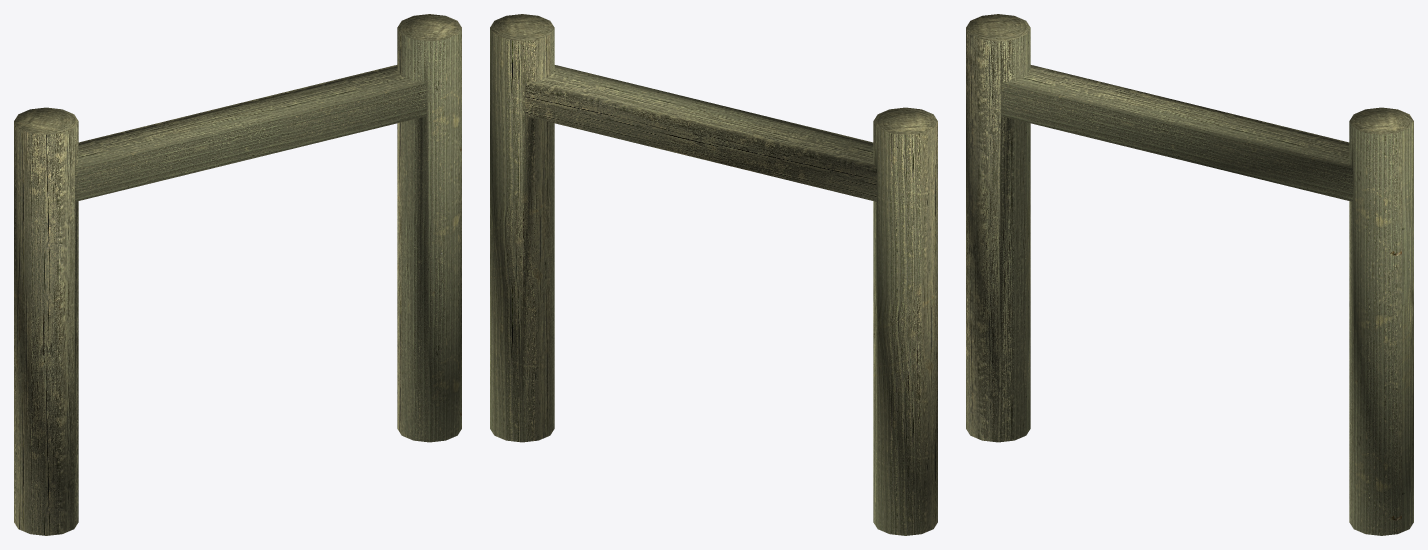
Rendered from boardwalk2.obj.
The picture shows the model from 3 angles, left to right: view 1: azimuth 30°, elevation 25°; view 2: azimuth 150°, elevation 25°; view 3: azimuth 330°, elevation 25°; orthographic projection.
Parts seen in each view (by area): view 1: Default; view 2: Default; view 3: Default.
Part boxes in pixels (left/top/right/bottom): Default: left=14, top=14, right=461, bottom=535; Default: left=490, top=14, right=937, bottom=535; Default: left=966, top=14, right=1413, bottom=535.
Size of the model in its own units: 2.75 by 2.4 by 0.35.
Materials: 1 (1 with a texture image).
